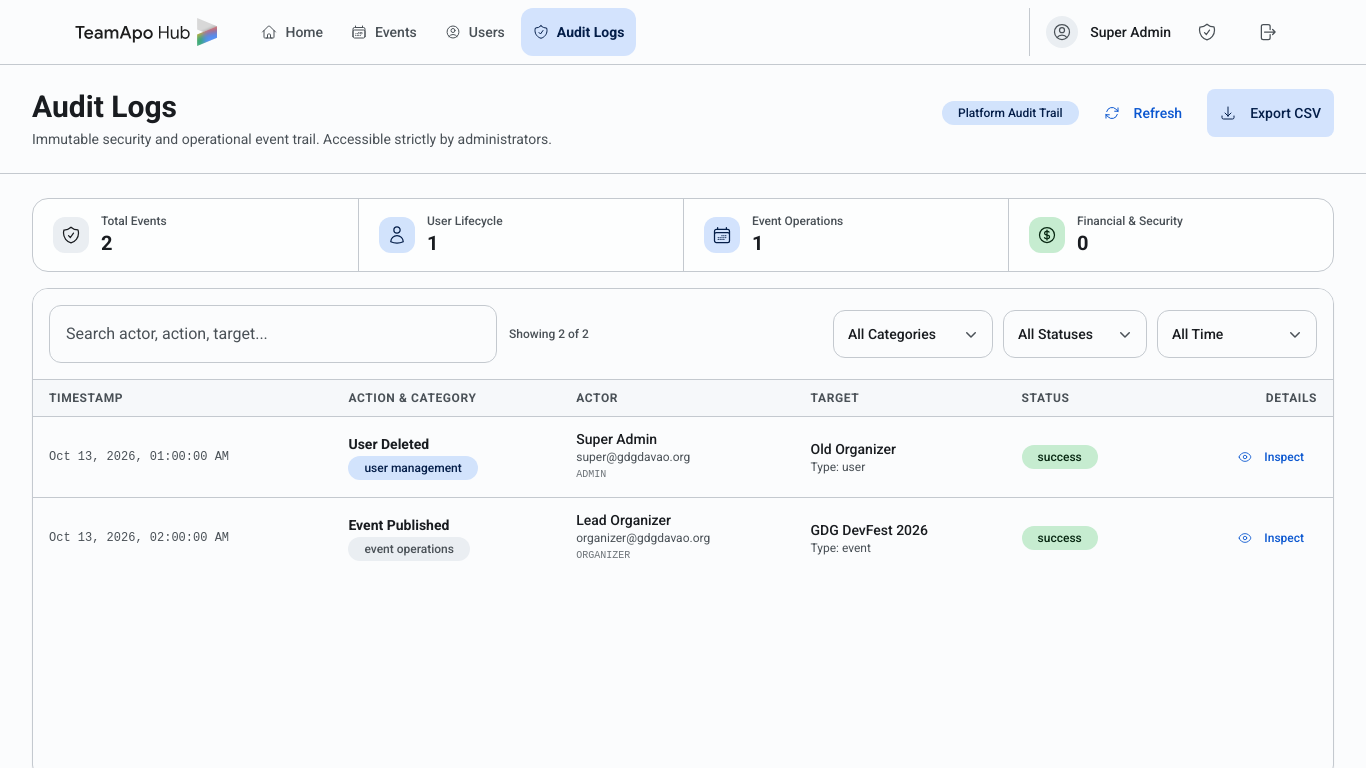
Test: AuditLogsPage DOM Component Tests › opens and closes inspect modal when clicking Inspect button
The width and height of the screenshot is (1366, 768).
Expected: the text "Inspect" is shown 2 times, [1238, 449, 1304, 465]; [1238, 530, 1304, 546]
Click the button "Inspect" in the row of "Oct 13, 2026, 01:00:00 AM". click: point(1271, 457)
box: [1225, 433, 1317, 481]
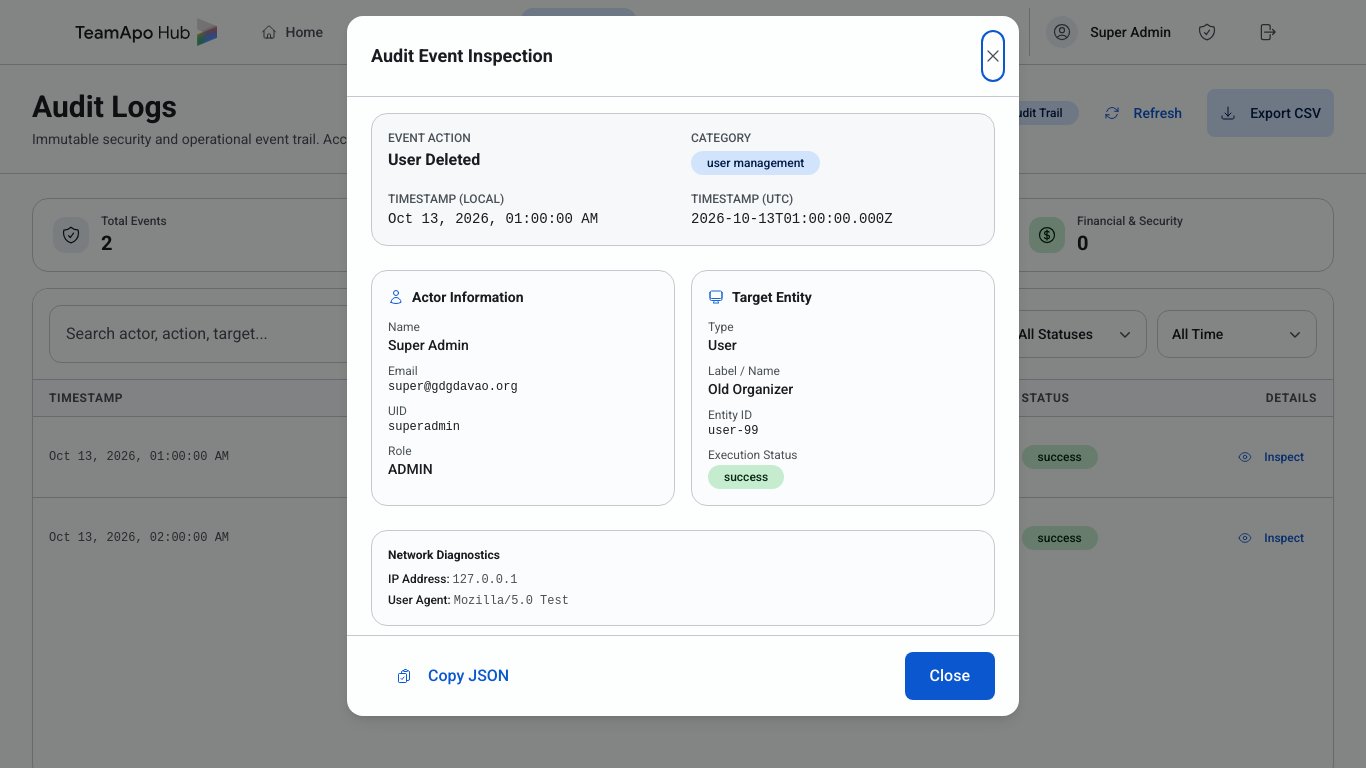
Now the heading "Audit Event Inspection" is shown, box [371, 42, 553, 70]
Now the heading "Actor Information" is shown, box [388, 289, 524, 305]
Click the button "Close". click: point(950, 676)
box: [905, 652, 995, 700]
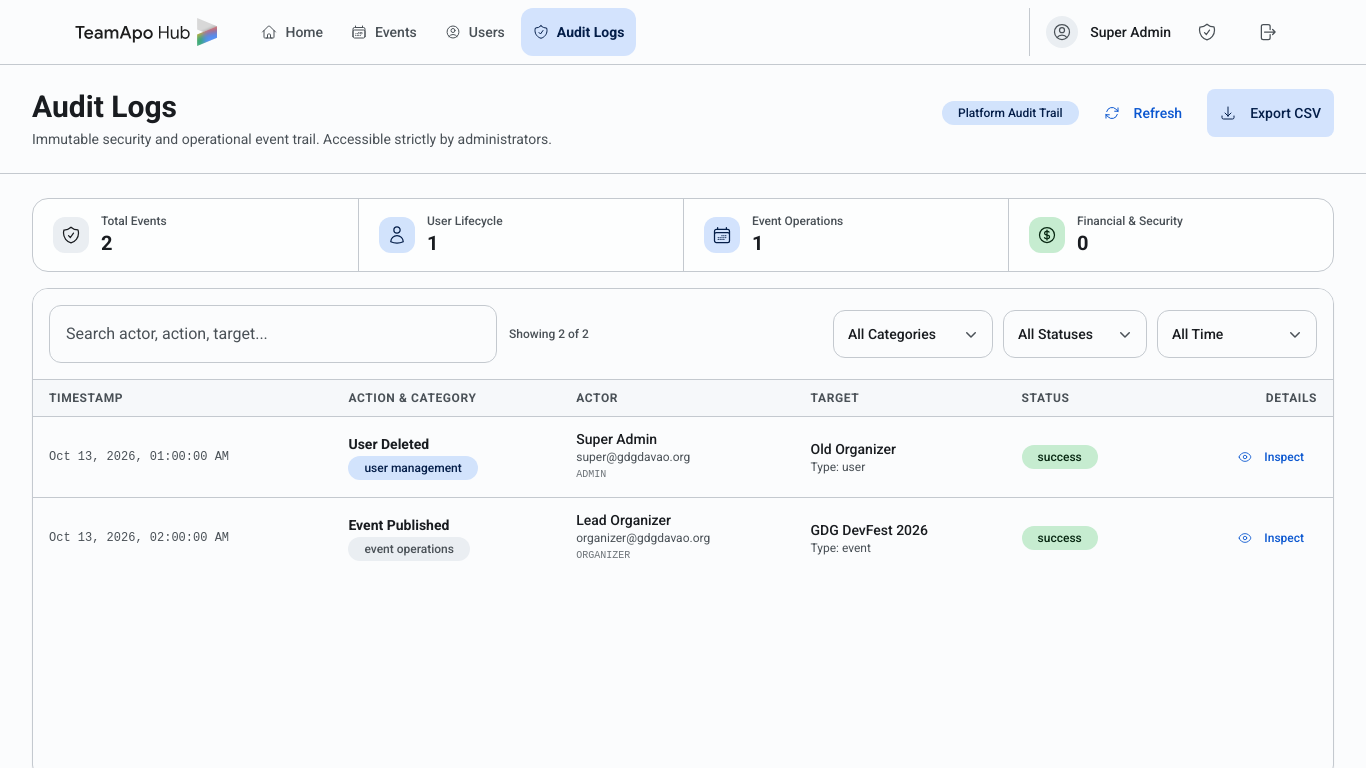
Now the heading "Audit Event Inspection" is gone
